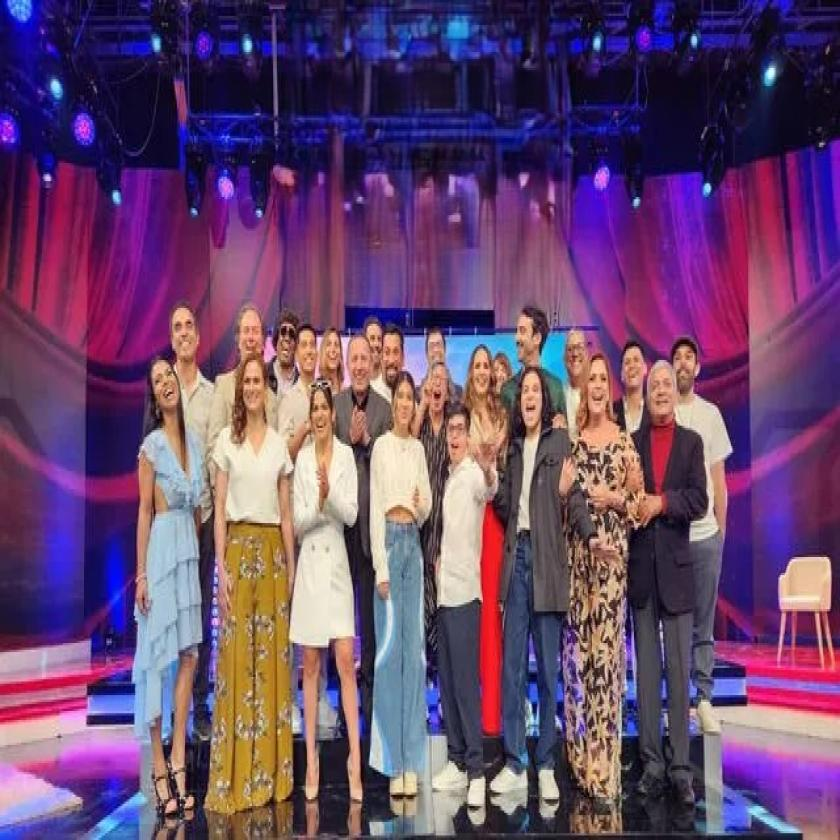Sin_casco: (236, 354, 272, 435), (579, 346, 616, 424), (306, 378, 341, 458), (644, 356, 679, 435), (231, 299, 268, 371), (513, 302, 551, 371), (148, 356, 186, 421), (670, 330, 703, 402), (344, 327, 374, 405), (443, 402, 474, 476), (518, 366, 547, 444), (621, 340, 650, 414), (391, 370, 419, 444), (468, 341, 497, 410), (424, 360, 454, 425), (171, 302, 203, 362), (295, 322, 323, 386), (562, 319, 592, 378), (379, 330, 408, 387), (322, 329, 348, 391)
